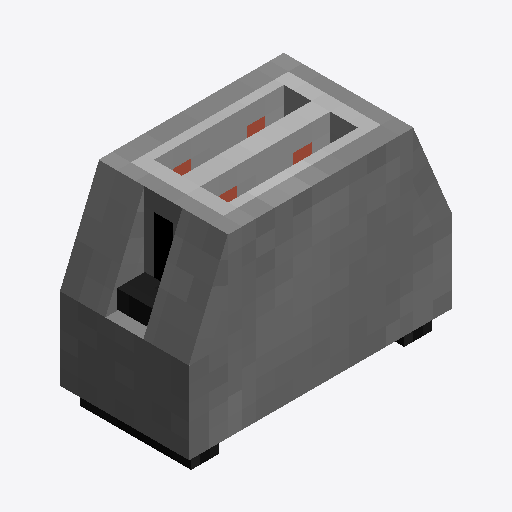
Isometric view (azimuth 45°, elevation 35.3°) of a Minecraft model made of 14 cuboids, textured from the same repository.
Visible parts, largest first — SlotS, SideW2, SideW1, SideE1, SideW3s, SideW3n, SlotN, SlotMid, Base, SideE2, SideE3, Lever (+1 smaller).
Part boxes in pixels (bbox=[...]): SlotS: bbox=[228, 128, 385, 378]; SideW2: bbox=[60, 292, 227, 459]; SideW1: bbox=[99, 144, 255, 437]; SideE1: bbox=[257, 53, 412, 345]; SideW3s: bbox=[144, 208, 227, 364]; SideW3n: bbox=[60, 160, 143, 316]; SlotN: bbox=[127, 69, 283, 175]; SlotMid: bbox=[182, 101, 329, 201]; Base: bbox=[189, 304, 385, 421]; SideE2: bbox=[413, 214, 451, 330]; SideE3: bbox=[413, 128, 451, 235]; Lever: bbox=[117, 272, 160, 325].
Size of the model in its own units: 7.1 by 5.25 by 3.5.